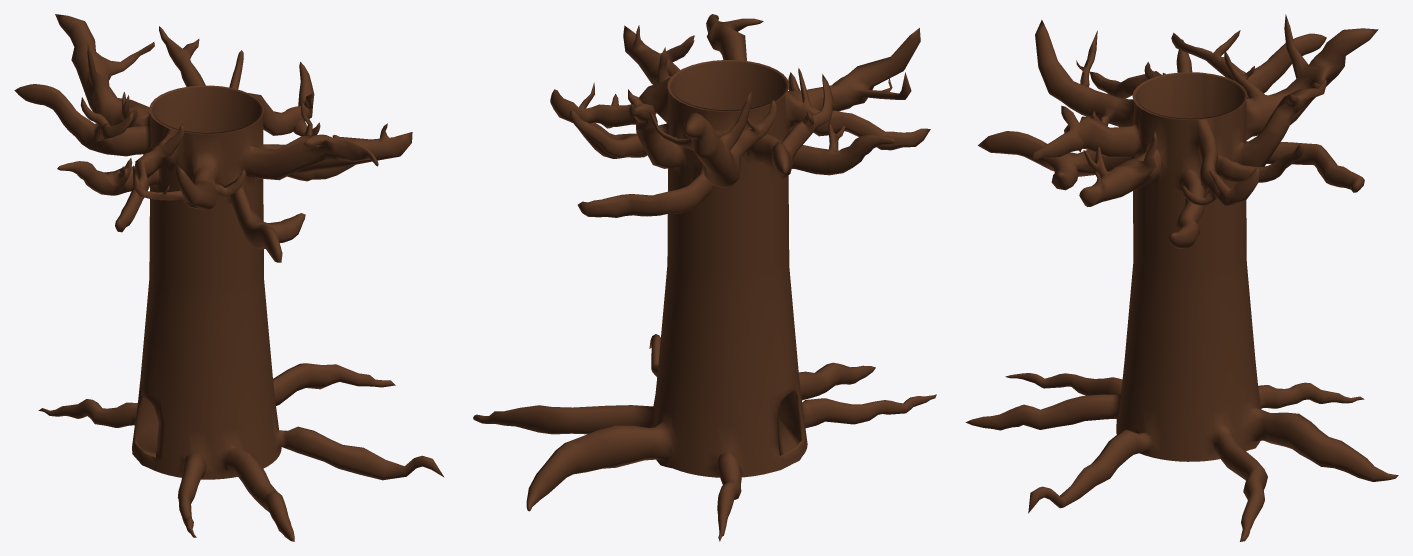
The model's file is Big_Tree.fbx.
3 renders of one model, left to right at view 1: azimuth 30°, elevation 25°; view 2: azimuth 150°, elevation 25°; view 3: azimuth 270°, elevation 25°, orthographic. The views are drawn at different scales.
Visible parts, largest first — view 1: Cylinder.001; view 2: Cylinder.001; view 3: Cylinder.001.
Boxes of the visible parts, x1,y1,x2,y2 form: Cylinder.001: (14, 14, 444, 541); Cylinder.001: (473, 14, 936, 541); Cylinder.001: (965, 14, 1398, 541).
Size of the model in its own units: 26231 by 27400 by 27017.
